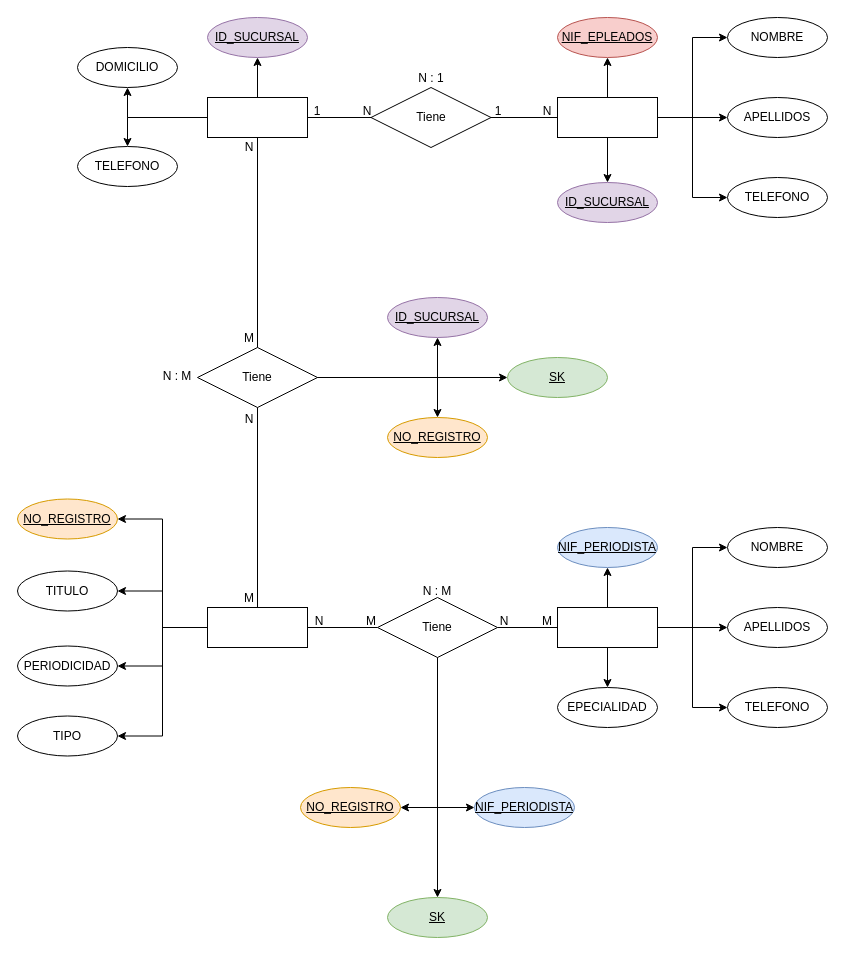
Some shapes in this 845 by 955 pixel diagram are drawn without their labels. The centre of each missing label's shape, as x and y in pixels:
Empleados: the point at 607,117
Periodistas: the point at 607,627
Revistas: the point at 257,627
Sucursal: the point at 257,117
